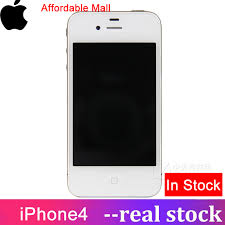iphone: (64, 8, 162, 201)
iphone4: (64, 8, 162, 201)
